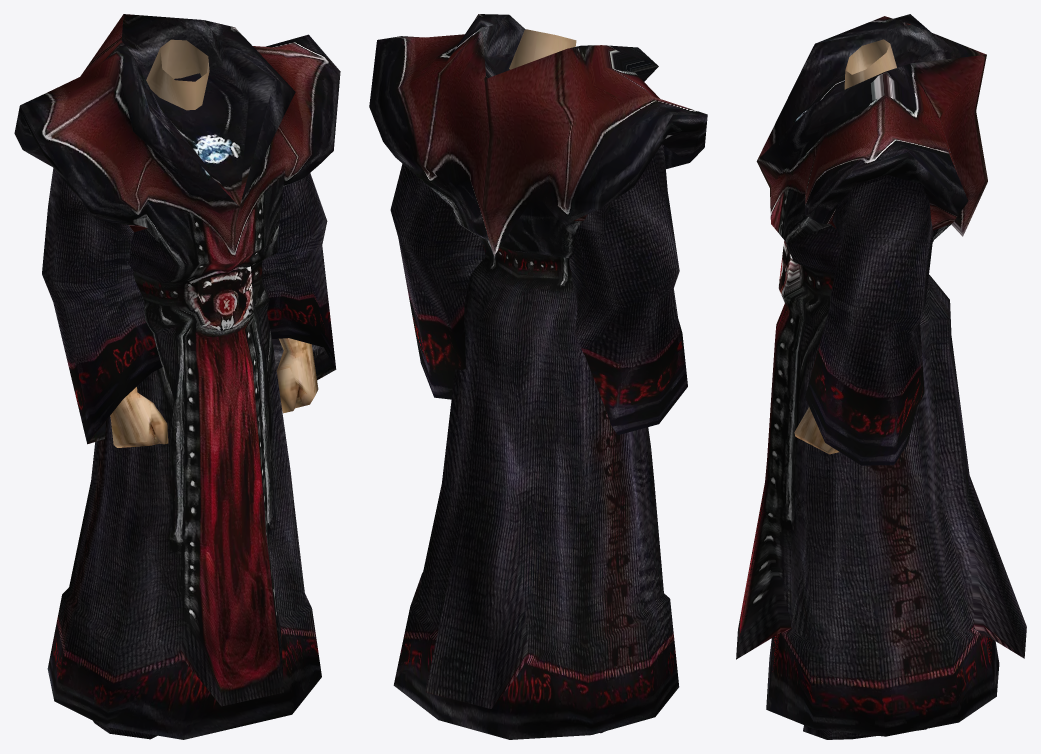
The model's file is ARMOR_CULTIST.glb.
The picture shows the model from 3 angles, left to right: view 1: azimuth 30°, elevation 25°; view 2: azimuth 150°, elevation 25°; view 3: azimuth 270°, elevation 25°; orthographic projection. The views are drawn at different scales.
Visible parts, largest first — view 1: ARMOR_CULTIST; view 2: ARMOR_CULTIST; view 3: ARMOR_CULTIST.
Part boxes in pixels (x1,y1,x2,y2): ARMOR_CULTIST: [14, 14, 340, 739]; ARMOR_CULTIST: [369, 14, 707, 739]; ARMOR_CULTIST: [736, 14, 1026, 739].
Size of the model in its own units: 0.7899 by 1.67 by 0.6743.
Materials: 2 (2 with a texture image).
